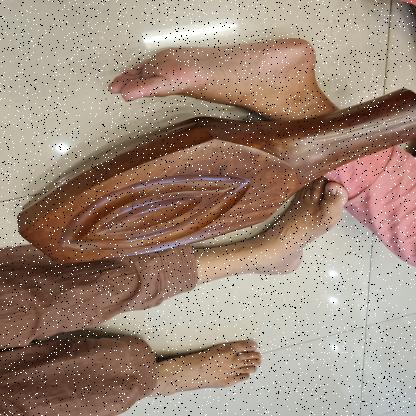leg: (101, 31, 340, 127), (192, 166, 355, 283), (154, 336, 272, 398)
